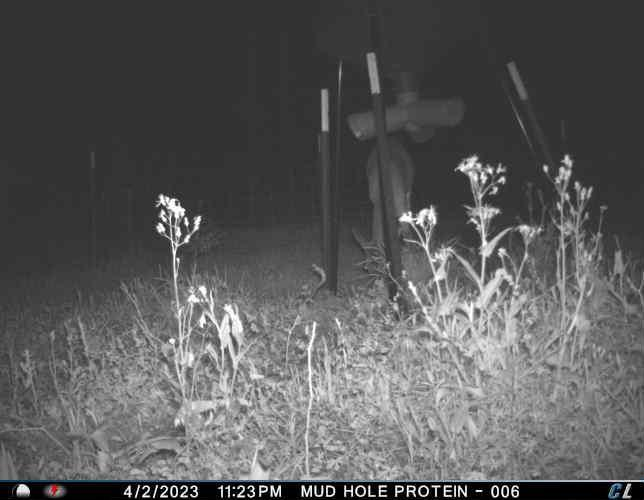Deer: (353, 131, 425, 297)
